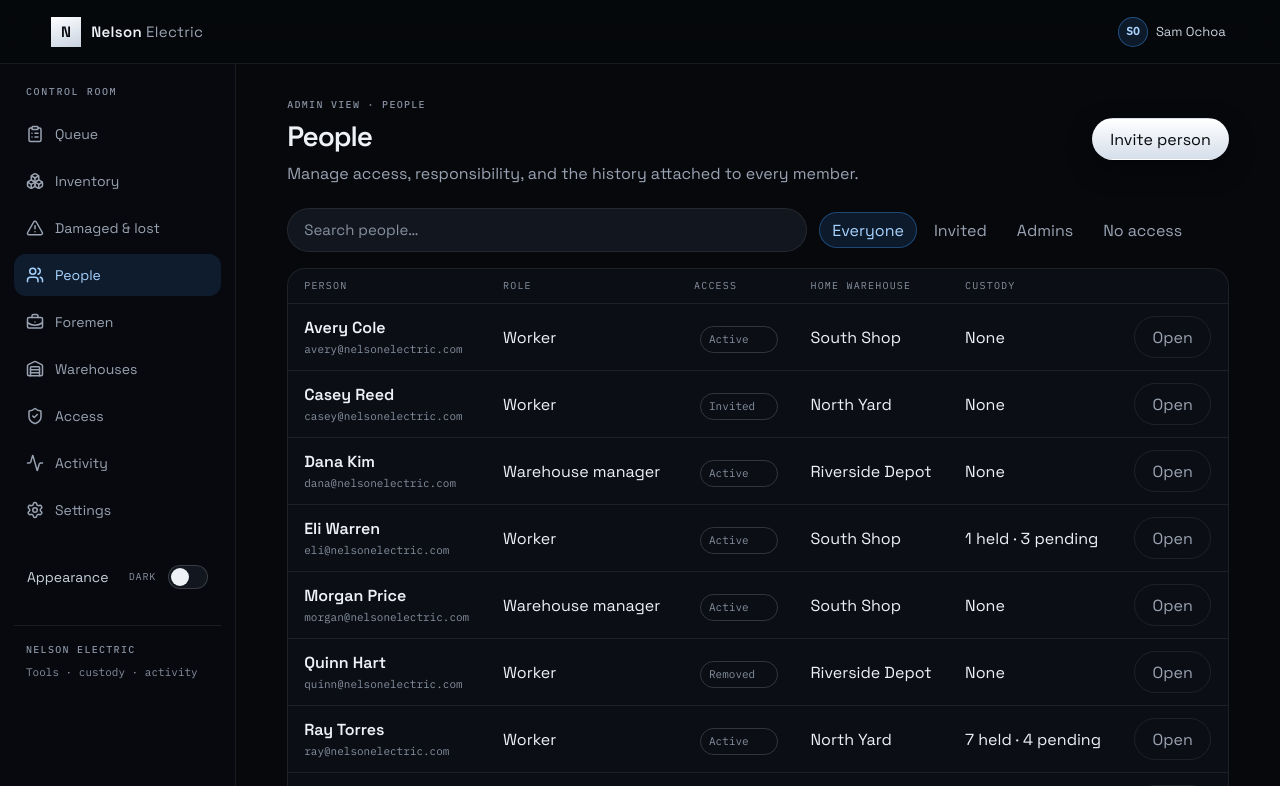
Scenario: admin route surfaces › searches people by normalized text, filters roles, and states empty results
Type "  CASEY@NELSONELECTRIC.COM  " into the search field labelled "Search people" at (547, 230), box [304,221,790,239]
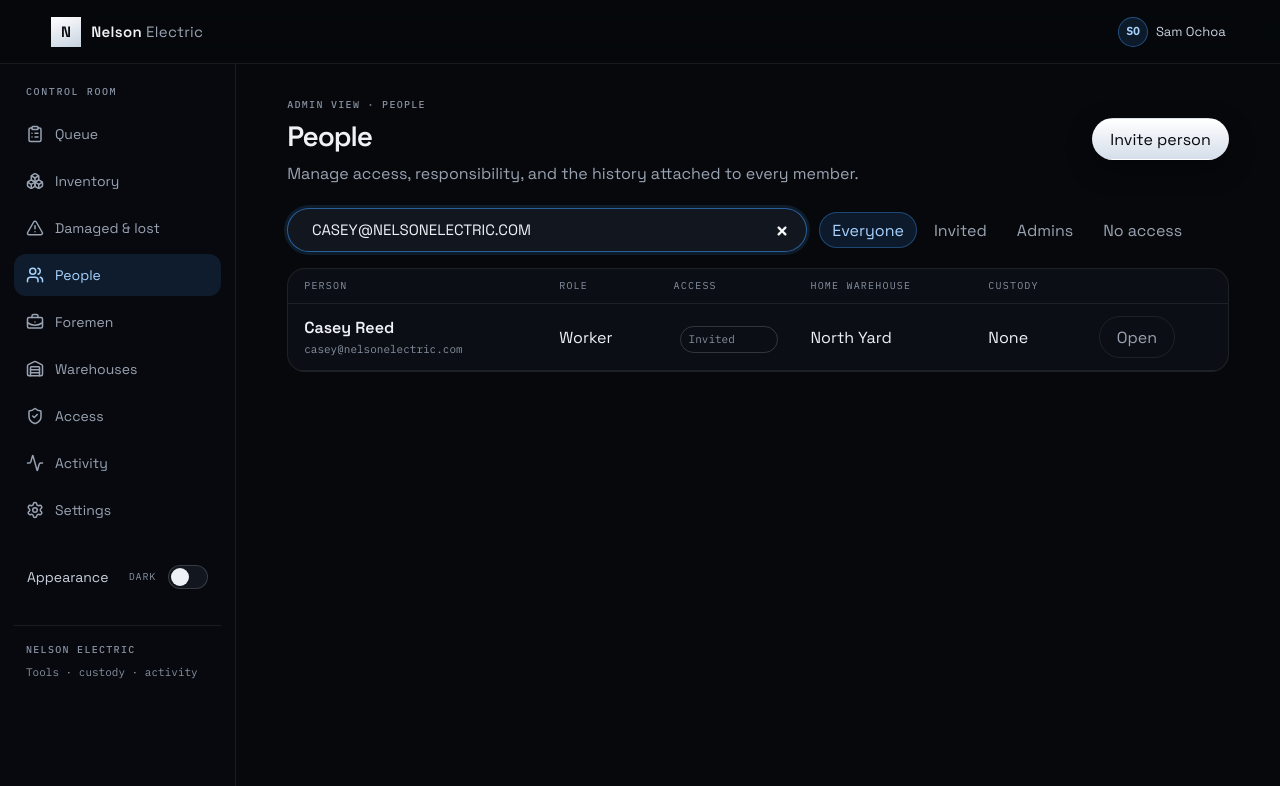
Expected: the link "Casey Reed" is shown, [304,317,394,338]
Expected: the link "Ray Torres" is gone
Clear the search field labelled "Search people" at (547, 230), box [304,221,790,239]
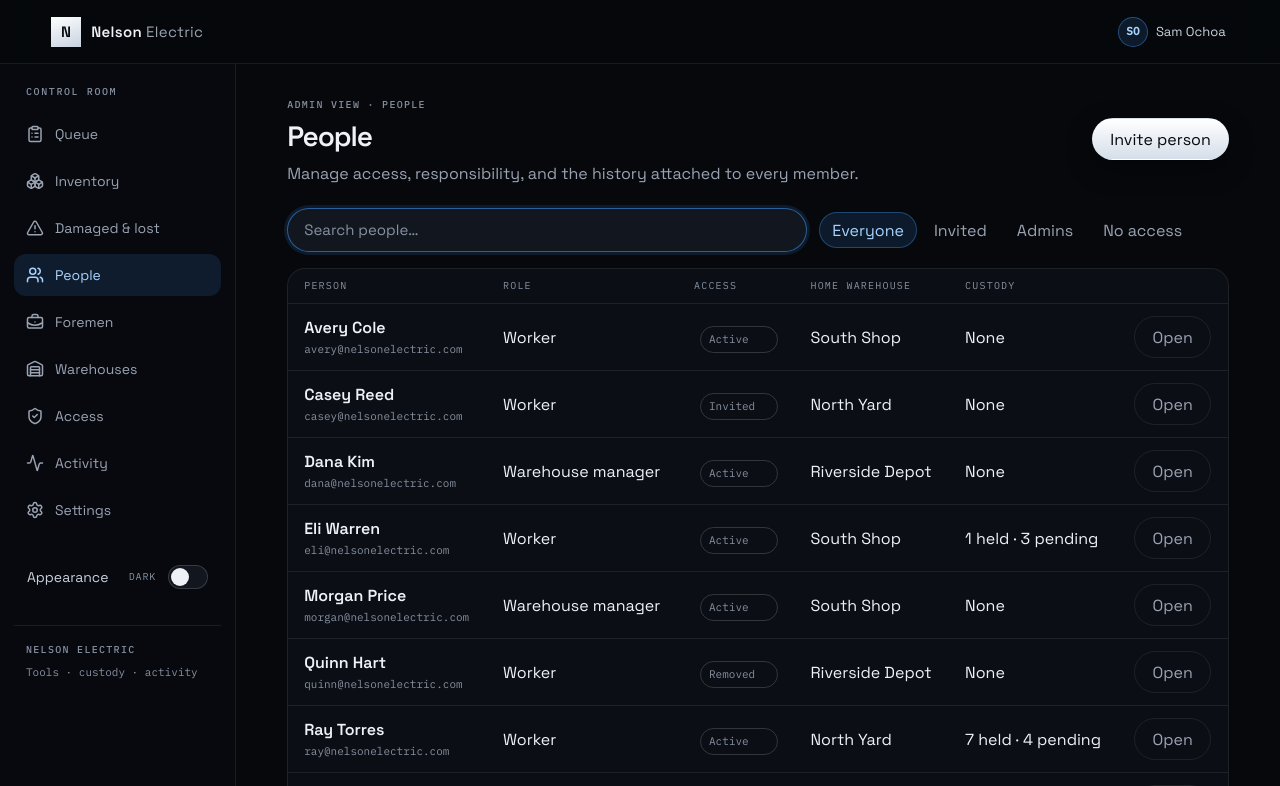
Click the tab "Admins" at (1045, 230), box [1004,212,1086,248]
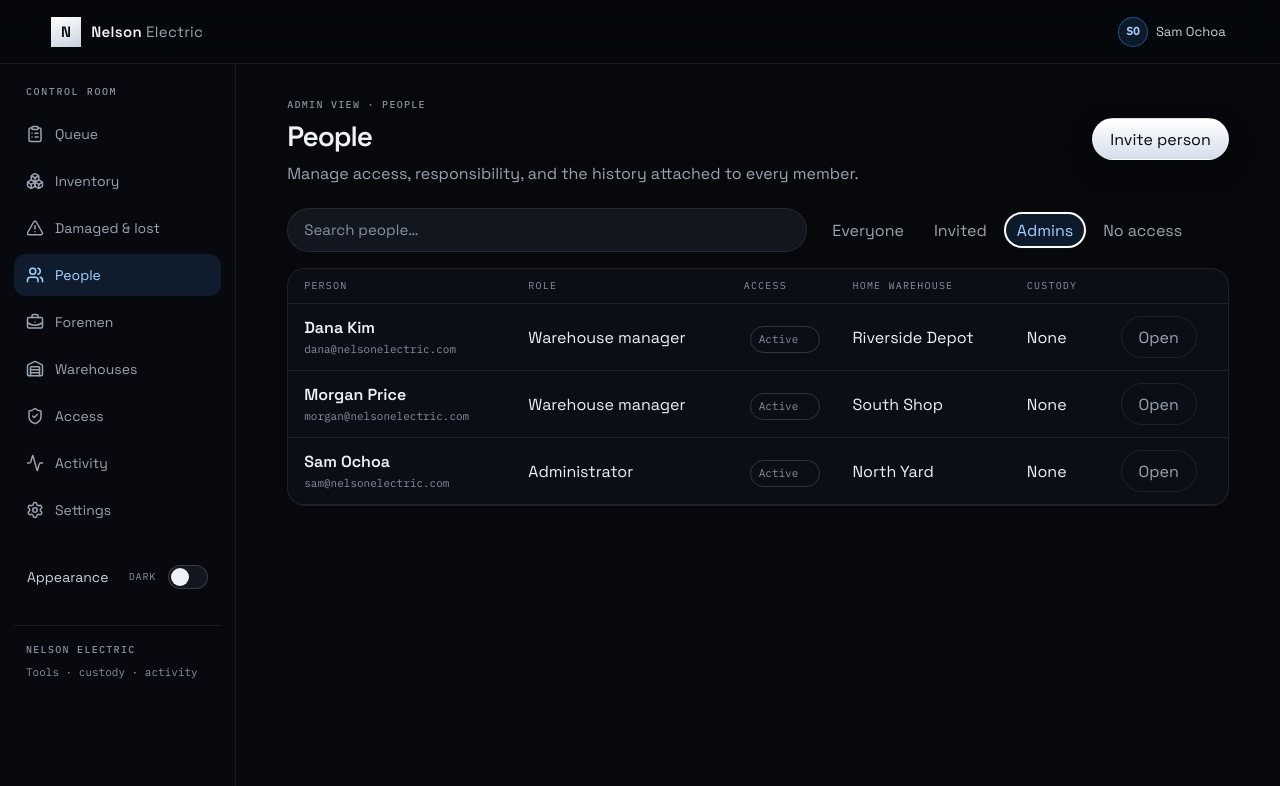
Expected: the link "Sam Ochoa" is shown, [304,451,390,472]
Expected: the link "Morgan Price" is shown, [304,384,406,405]
Expected: the link "Ray Torres" is gone
Type "no such person" into the search field labelled "Search people" at (547, 230), box [304,221,790,239]
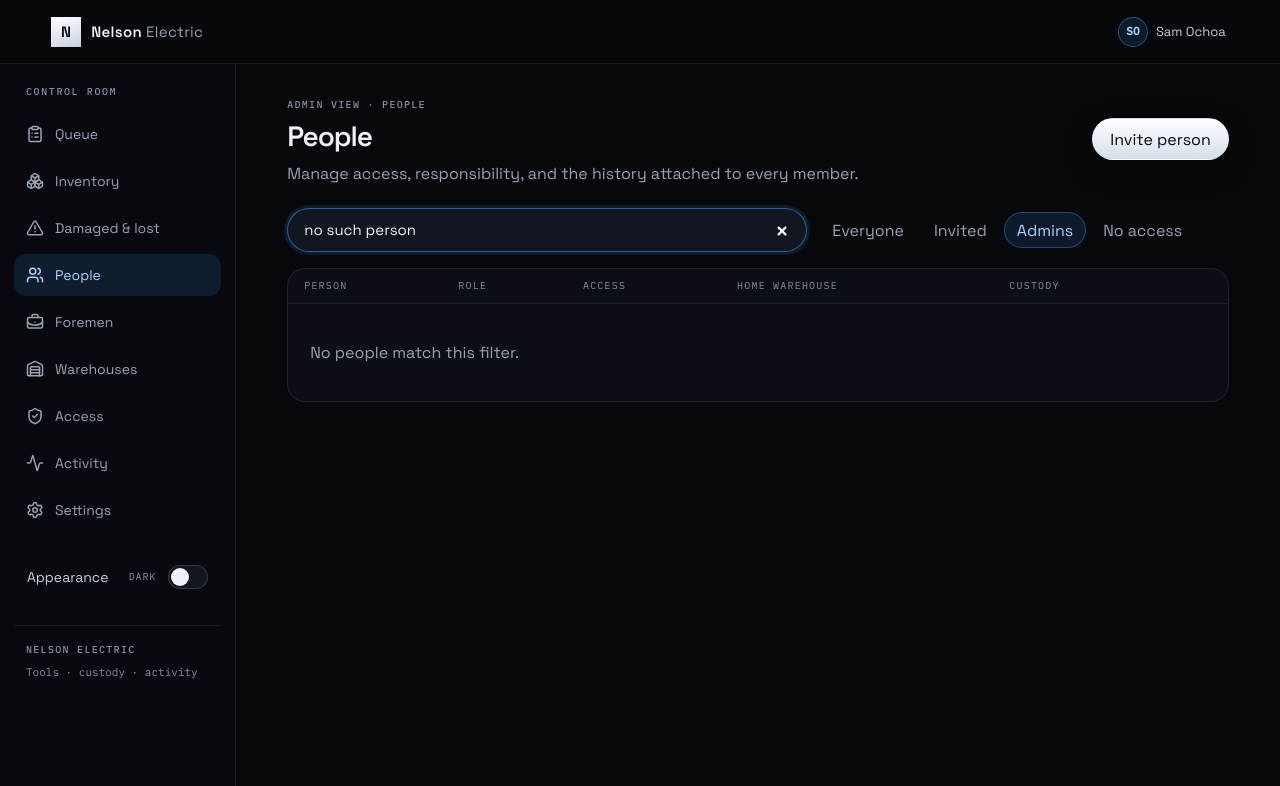
Expected: the text "No people match this filter." is shown, [310,342,519,363]
